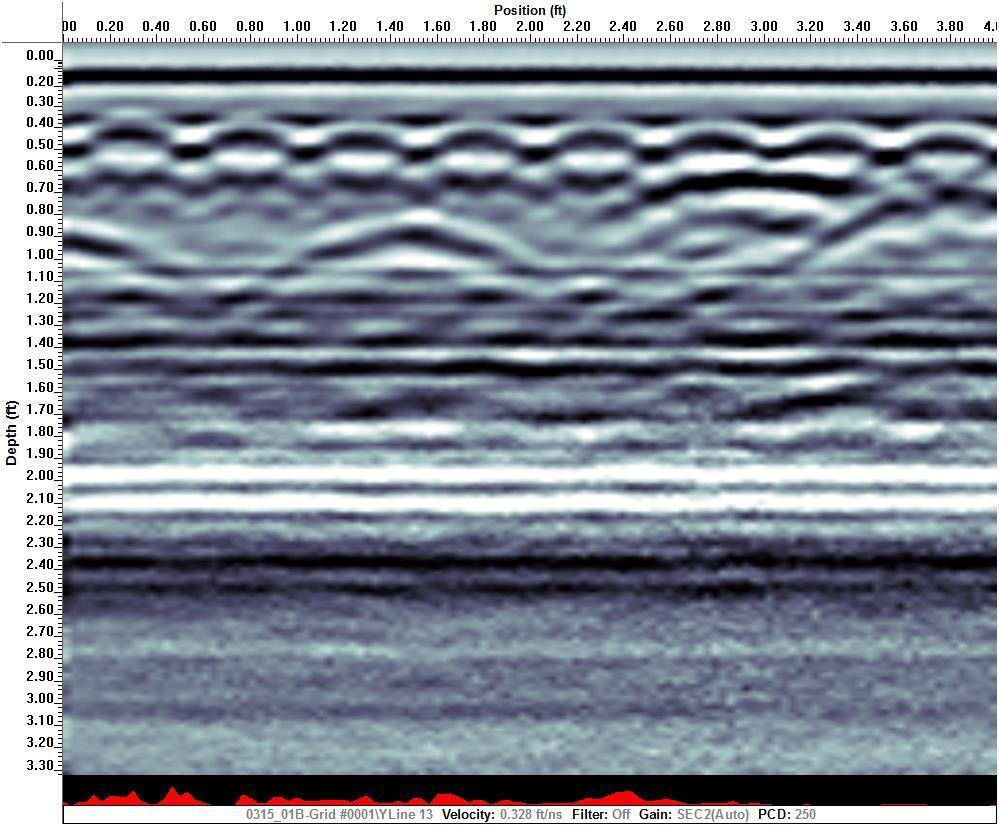hyperbola: (890, 114, 997, 157), (780, 112, 887, 155), (661, 114, 768, 157), (543, 111, 650, 154), (424, 119, 531, 162), (312, 112, 419, 155), (195, 107, 302, 150), (79, 108, 186, 151)
